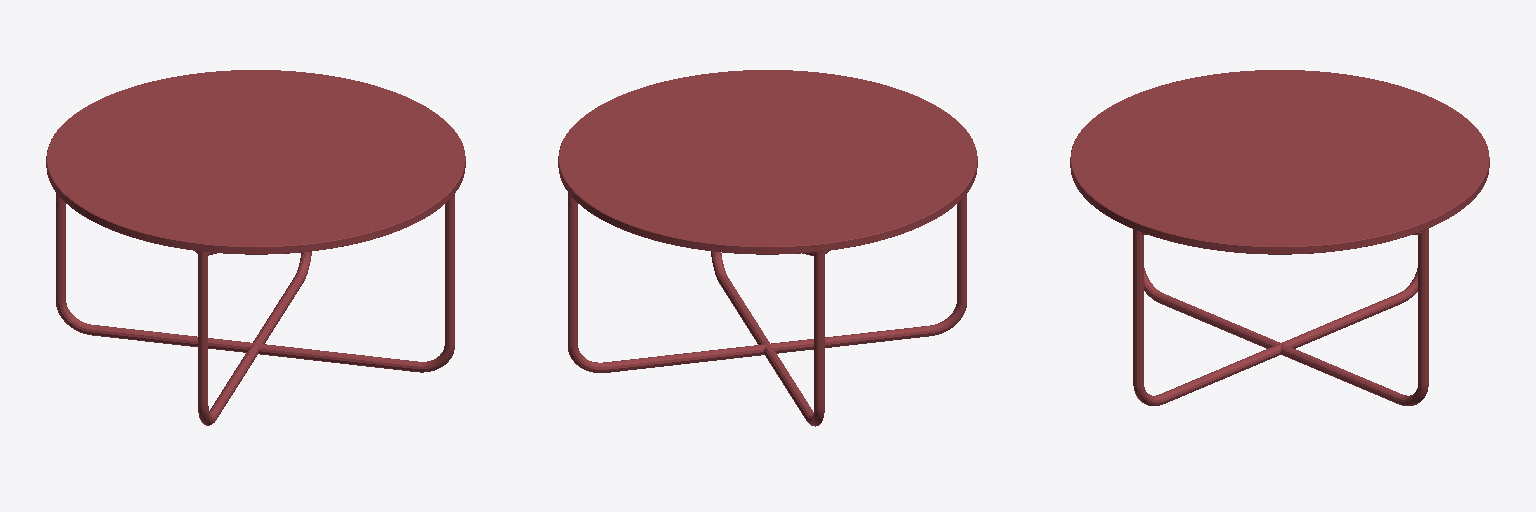
Rendered from coffee_table.obj.
3 renders of one model, left to right at view 1: azimuth 30°, elevation 25°; view 2: azimuth 150°, elevation 25°; view 3: azimuth 270°, elevation 25°, orthographic.
Visible parts, largest first — view 1: coffee_table; view 2: coffee_table; view 3: coffee_table.
Boxes of the visible parts, x1=… form: coffee_table: x1=46, y1=70, x2=465, y2=425; coffee_table: x1=558, y1=70, x2=977, y2=426; coffee_table: x1=1070, y1=70, x2=1489, y2=405.
Size of the model in its own units: 700 by 360 by 700.